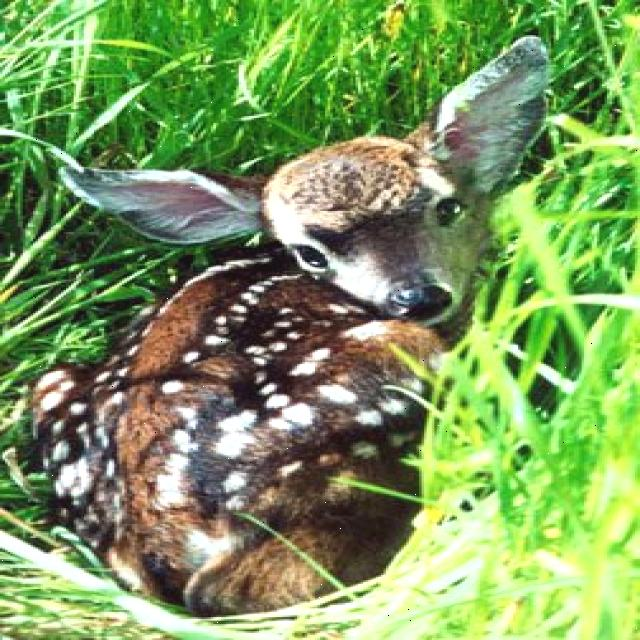deer: (49, 20, 566, 345)
